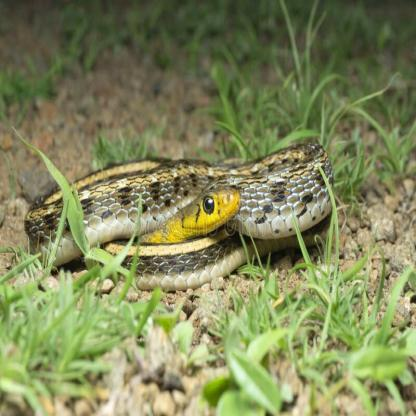Snake: (22, 135, 346, 293)
